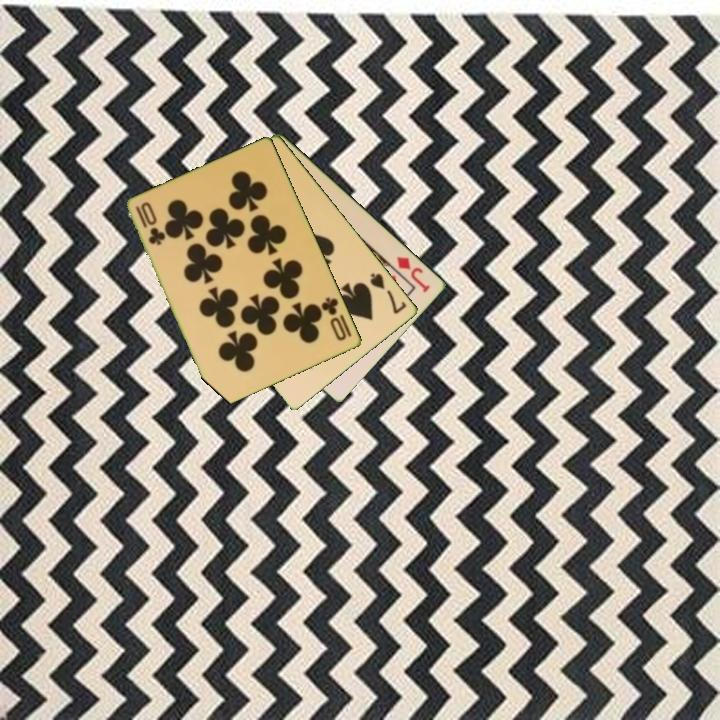10c: (132, 198, 168, 248), (318, 294, 350, 344)
7s: (367, 269, 410, 317)
Jd: (393, 253, 434, 295)
